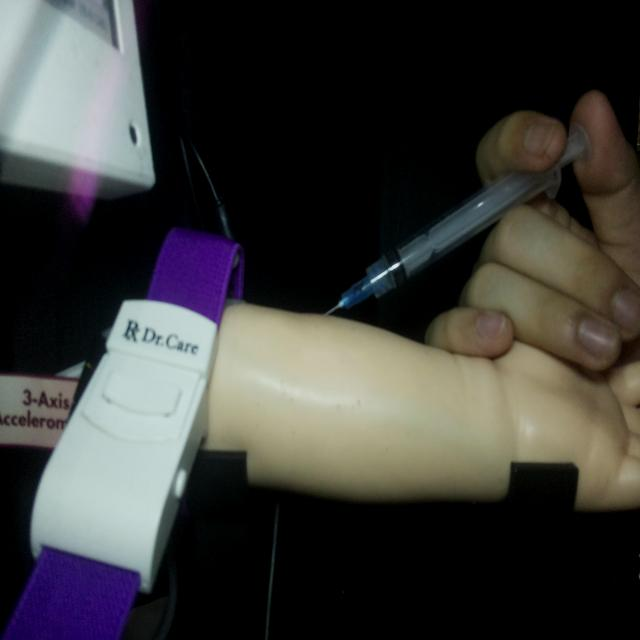26 degrees: (322, 120, 592, 318)
